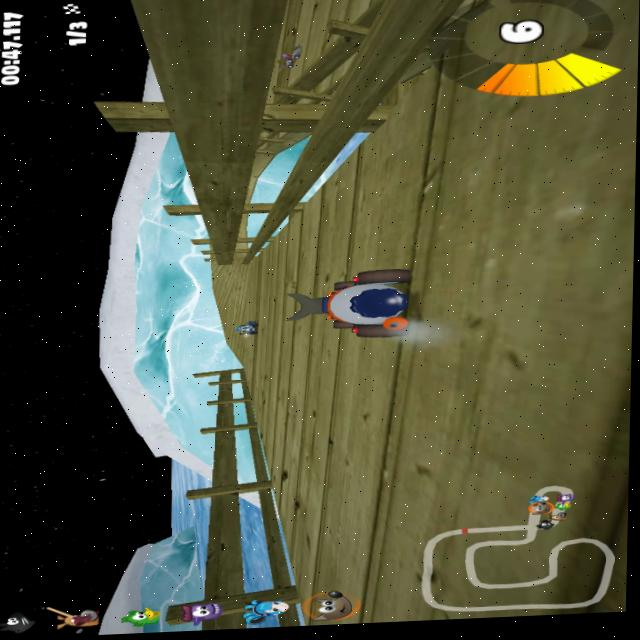enemy_kart: (237, 318, 264, 337)
player_kart: (291, 265, 422, 341)
track: (301, 328, 630, 624), (420, 0, 640, 338), (304, 185, 420, 268), (349, 115, 421, 188), (280, 343, 299, 554), (235, 250, 294, 287), (252, 337, 272, 433), (234, 285, 290, 317), (206, 261, 233, 291), (220, 289, 237, 316), (232, 348, 251, 364), (273, 317, 285, 337), (234, 337, 248, 351), (226, 313, 232, 330), (213, 291, 219, 299)
